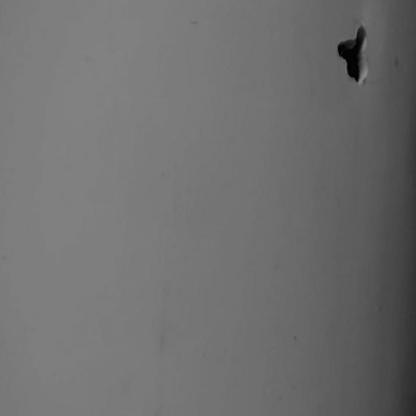kongdong: (334, 17, 376, 90)
